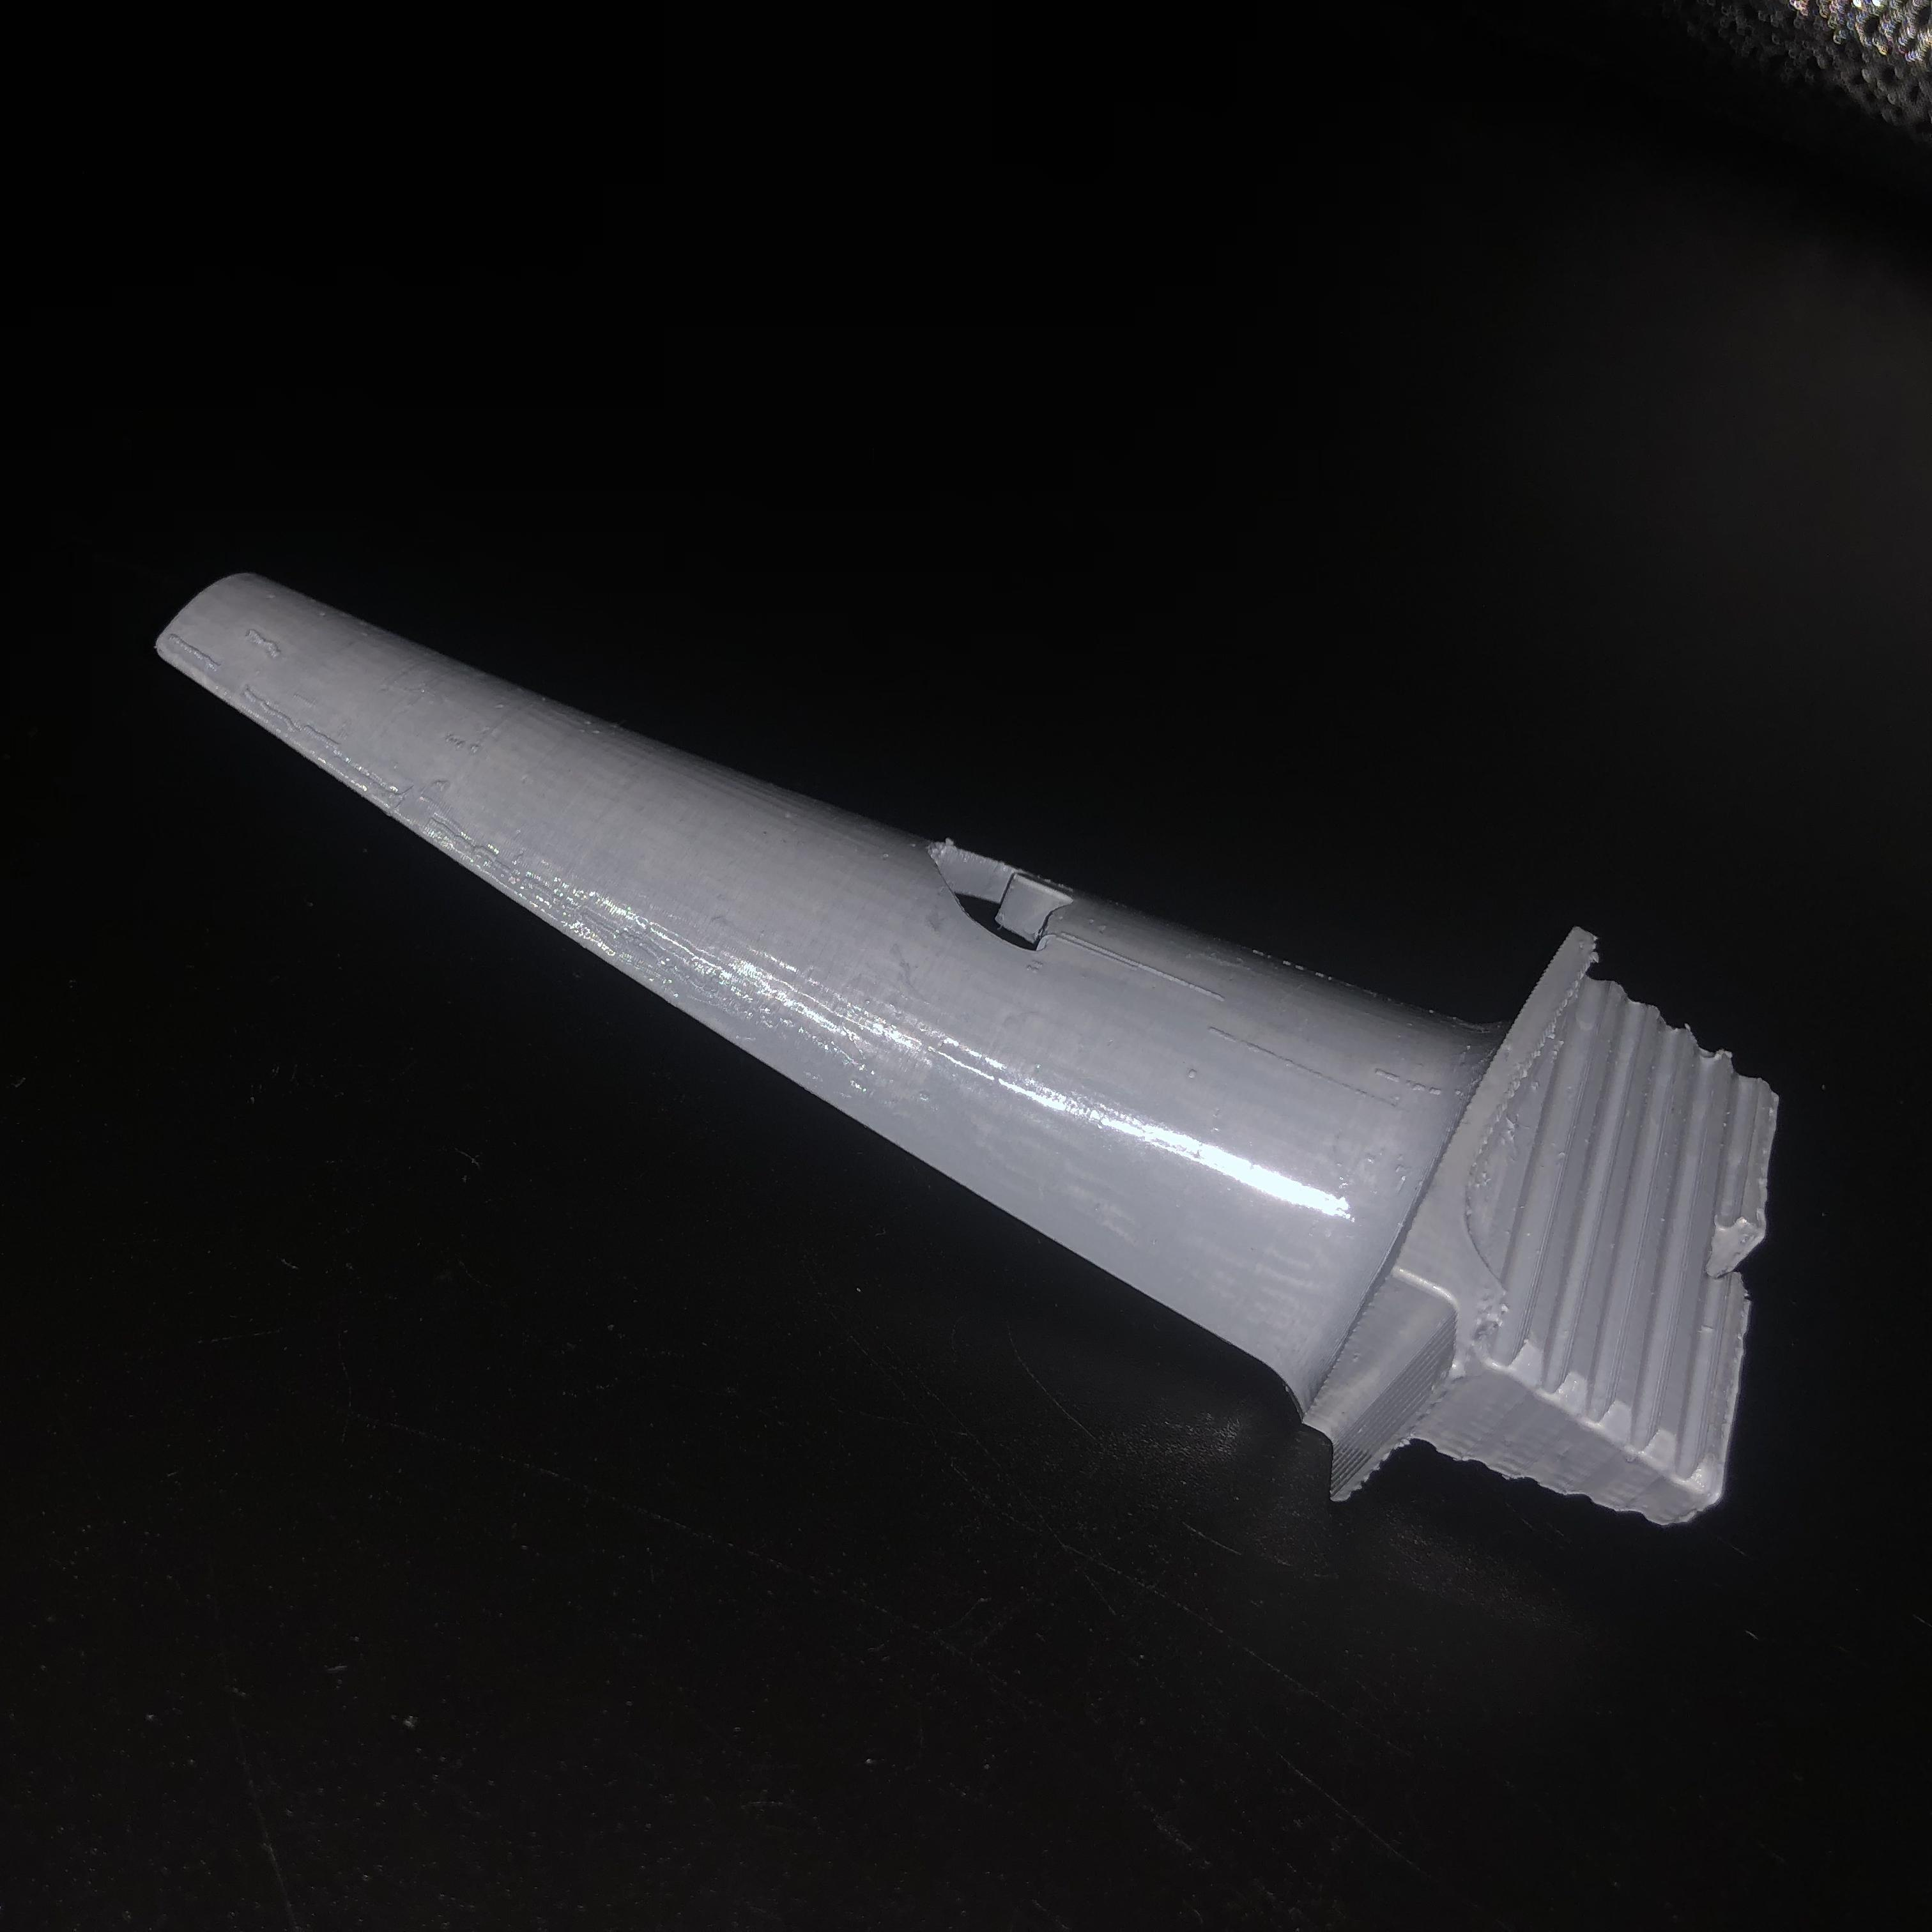breakdown: (925, 833, 1088, 957)
